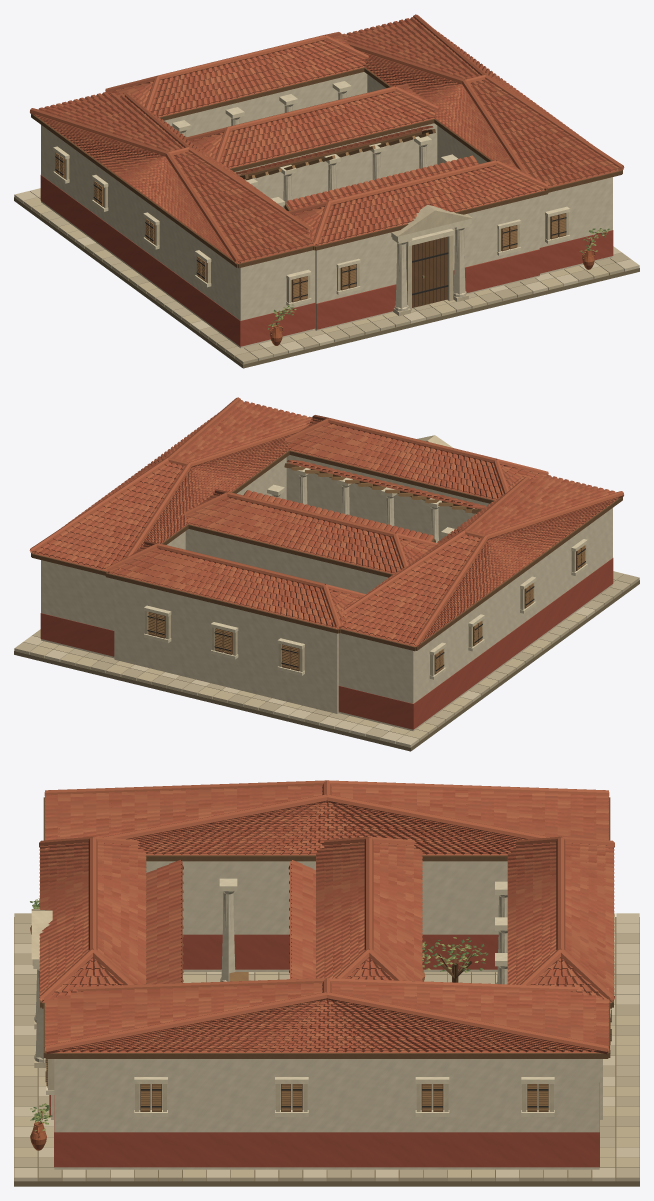
The model's file is domus.glb.
The picture shows the model from 3 angles, top to bottom: view 1: azimuth 30°, elevation 25°; view 2: azimuth 150°, elevation 25°; view 3: azimuth 270°, elevation 25°; orthographic projection. The views are drawn at different scales.
Visible parts, largest first — view 1: Limewash.001, Tile_0.001, Tile_1.001, Limewash.002, Pompeian_red.002, Tile_5.001, Pompeian_red.001, Oak.001, Tile_2.001, Tile_4.001, Tile_3.001, Paving_1.001 (+13 smaller); view 2: Limewash.001, Tile_0.001, Limewash.002, Tile_1.001, Tile_5.001, Pompeian_red.002, Tile_2.001, Oak.001, Tile_3.001, Tile_4.001, Pompeian_red.001, Paving_0.001 (+12 smaller); view 3: Tile_0.001, Limewash.001, Tile_1.001, Limewash.002, Pompeian_red.001, Tile_5.001, Pompeian_red.002, Tile_2.001, Tile_3.001, Tile_4.001, Paving_1.001, Paving_2.001 (+13 smaller).
Boxes of the visible parts, x1,y1,x2,y2 form: Limewash.001: (41,72,601,347); Tile_0.001: (35,19,622,262); Tile_1.001: (30,14,623,263); Limewash.002: (41,72,612,348); Pompeian_red.002: (40,175,613,346); Tile_5.001: (51,25,597,261); Pompeian_red.001: (41,176,539,345); Oak.001: (31,67,622,324); Tile_2.001: (36,21,621,263); Tile_4.001: (41,18,604,254); Tile_3.001: (55,23,621,255); Paving_1.001: (85,243,630,364); Limewash.001: (41,455,552,730); Tile_0.001: (41,401,618,644); Limewash.002: (41,455,612,731); Tile_1.001: (30,397,623,646); Tile_5.001: (31,408,612,629); Pompeian_red.002: (40,558,613,729); Tile_2.001: (32,417,617,646); Oak.001: (31,450,622,670); Tile_3.001: (51,400,608,639); Tile_4.001: (38,404,612,638); Pompeian_red.001: (41,614,487,728); Paving_0.001: (29,613,586,740); Tile_0.001: (39,785,614,1052); Limewash.001: (34,861,602,1169); Tile_1.001: (39,780,614,1054); Limewash.002: (51,861,602,1170); Pompeian_red.001: (49,935,599,1166); Tile_5.001: (39,787,614,1051); Pompeian_red.002: (49,934,599,1167); Tile_2.001: (39,786,614,1052); Tile_3.001: (39,786,614,1052); Tile_4.001: (39,789,608,1051); Paving_1.001: (14,913,639,1181); Paving_2.001: (14,913,639,1181).
Bounding box in the file's own units: 17.8 × 5.27 × 17.8.
Materials: 27 (8 with a texture image).
